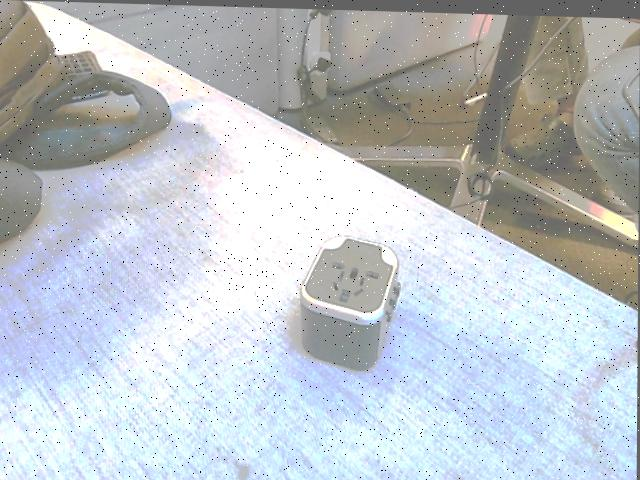adapter: (298, 231, 402, 369)
